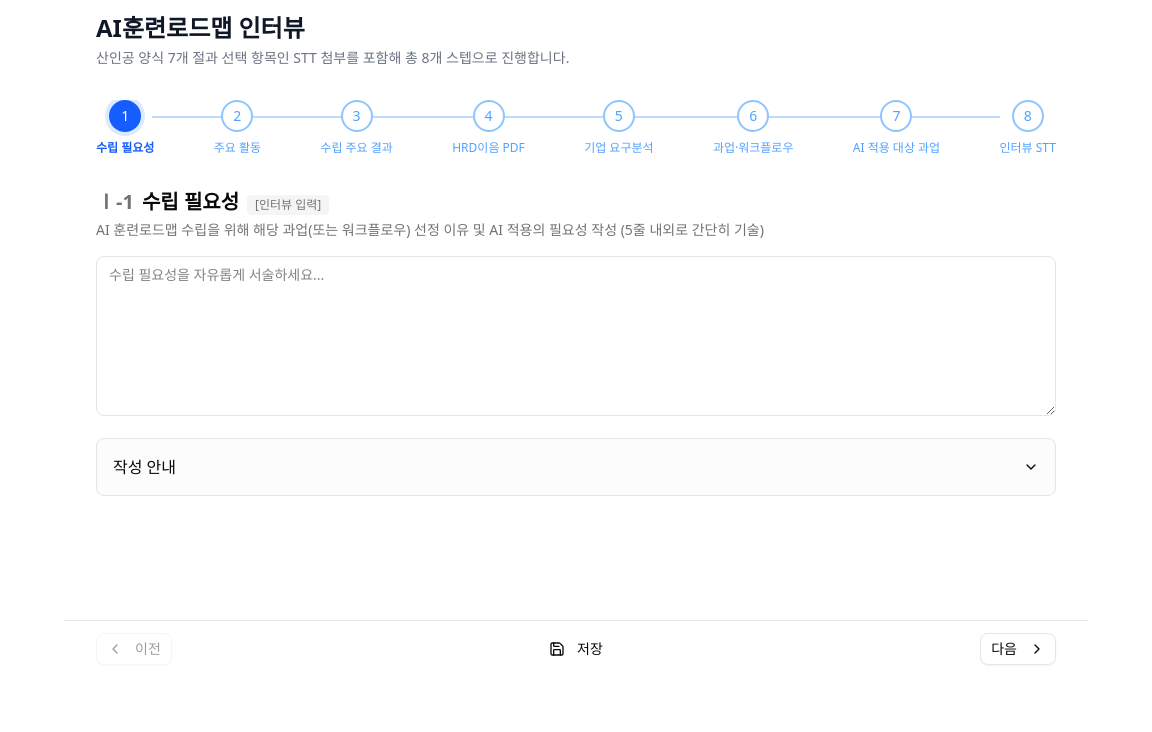
Test case: RoadmapInterviewClient › Ⅱ-4 항목명이 "AI 적용 대상 과업(Task)·워크플로우 선정" 으로 표시된다
Step 1. Click the text "AI 적용 대상 과업" → click(896, 148), box [853, 140, 940, 156]
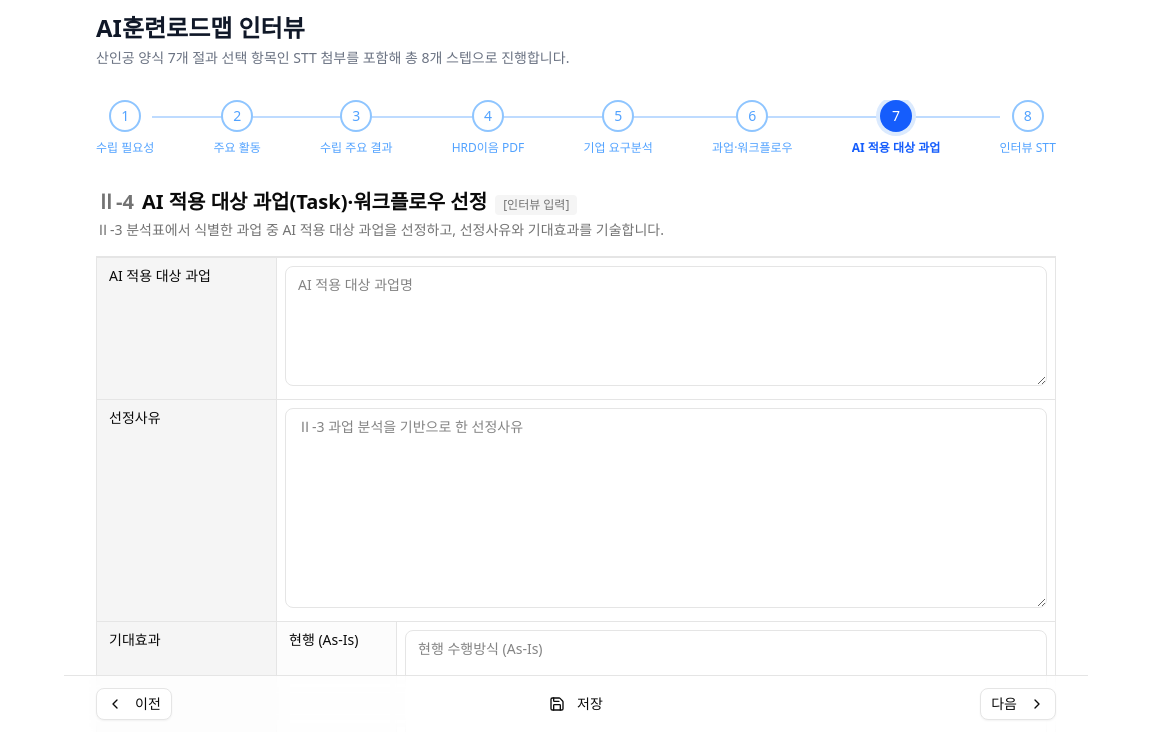
Result: the heading "AI 적용 대상 과업(Task)·워크플로우 선정" is shown at [142, 188, 487, 216]
